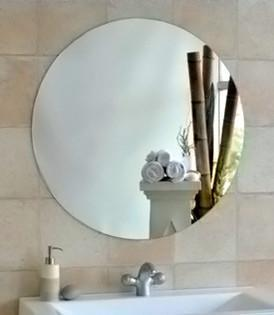Nonrec_Glass: (27, 19, 252, 240)
